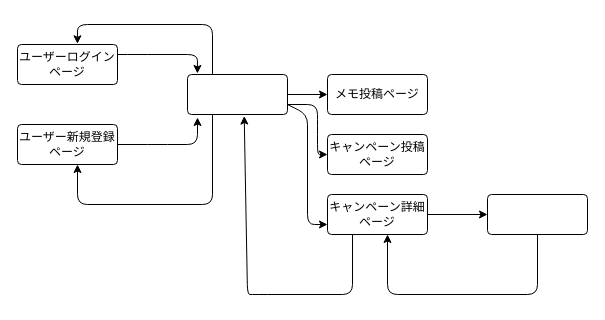
Image size: 605x320. Some labels were removed from this diagram. Each missing label, with the centre of its shape:
"キャンペーン編集ページ" goes at (x=537, y=214).
"トップページ" goes at (x=237, y=94).
